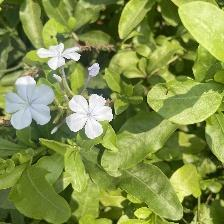chitrak: (68, 92, 116, 145), (5, 74, 51, 129), (39, 44, 84, 73)
